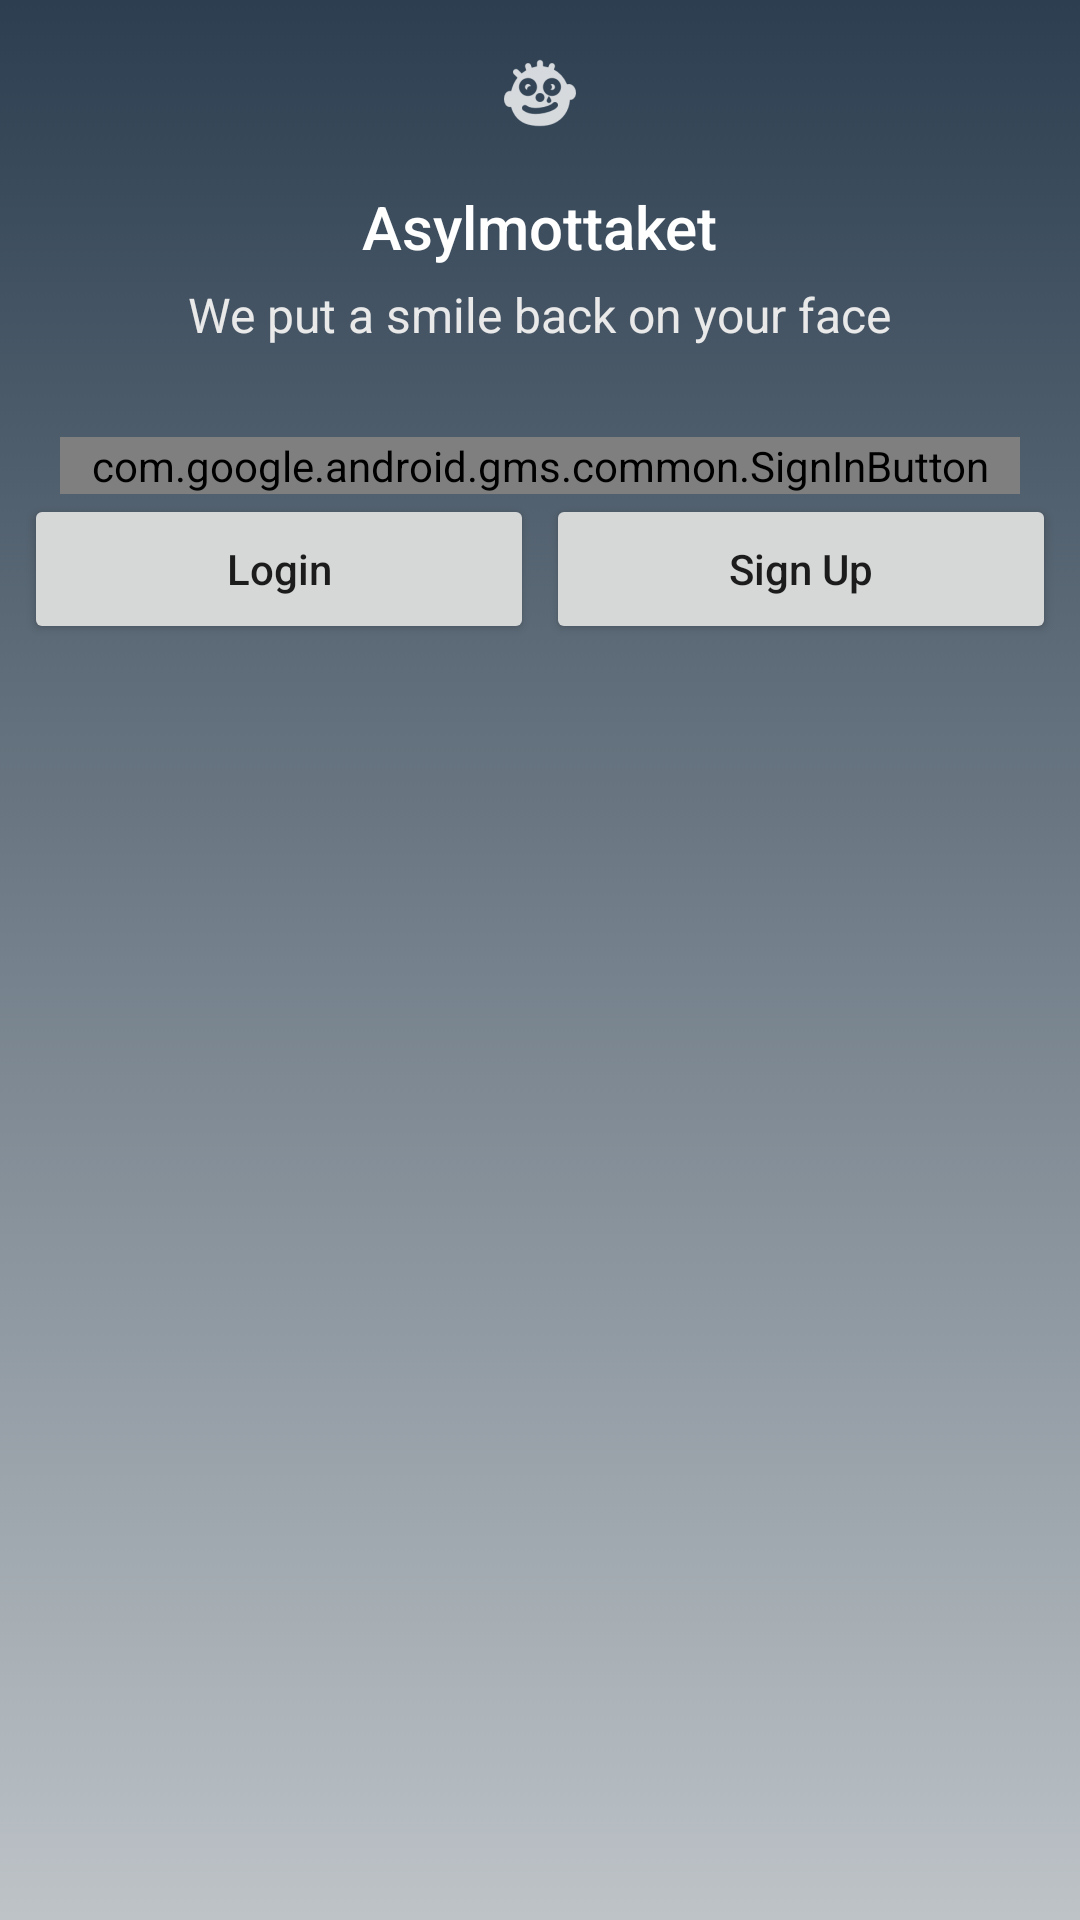

Icon click points for this 1080×1920 phone screenshot, format (x,y):
clown: (540,93)
